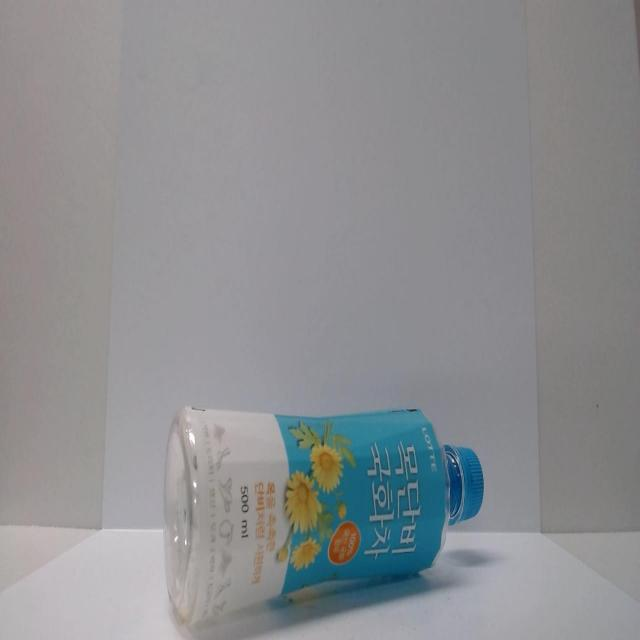bottle: (152, 349, 502, 640)
